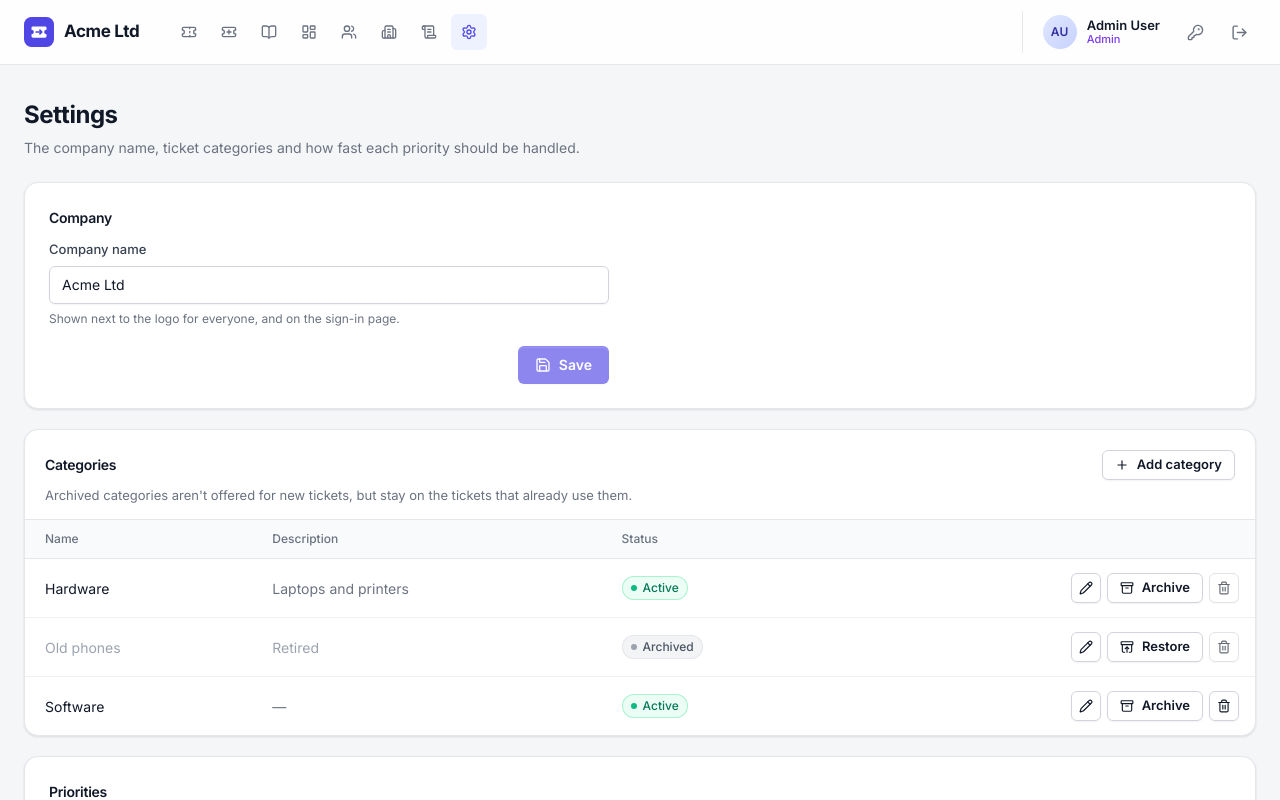
Test: Settings: categories › Add: name and description, sent cleaned up, and the new category appears sorted
Expected: the heading "Settings" is shown, [24, 100, 118, 129]
Expected: the element "Categories" is shown, [24, 428, 1256, 736]
Click the button "Add category" at (1168, 464), box [1102, 450, 1235, 480]
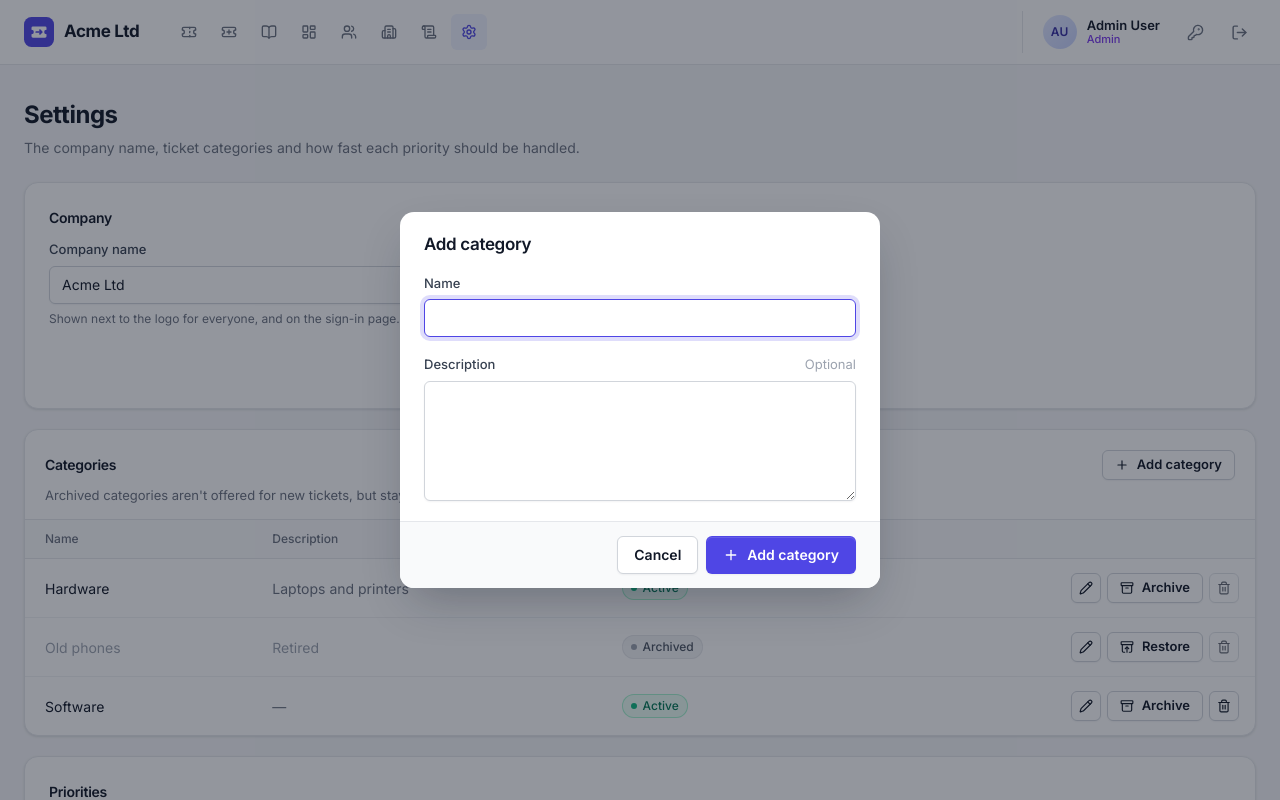
Type "  Access   cards " into the field labelled "Name" at (640, 318), box [424, 299, 856, 337]
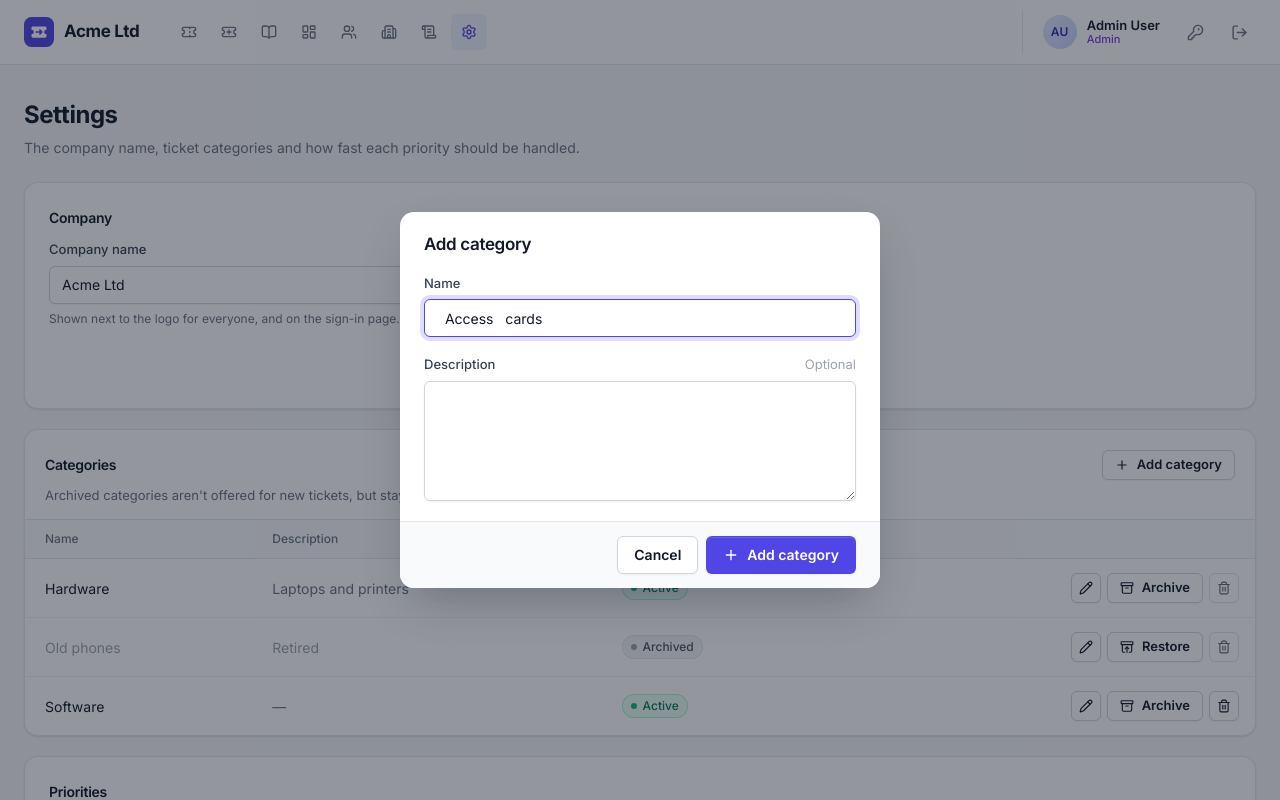
Type "Badges and door access" into the text box labelled "Description Optional" at (640, 441), box [424, 381, 856, 501]
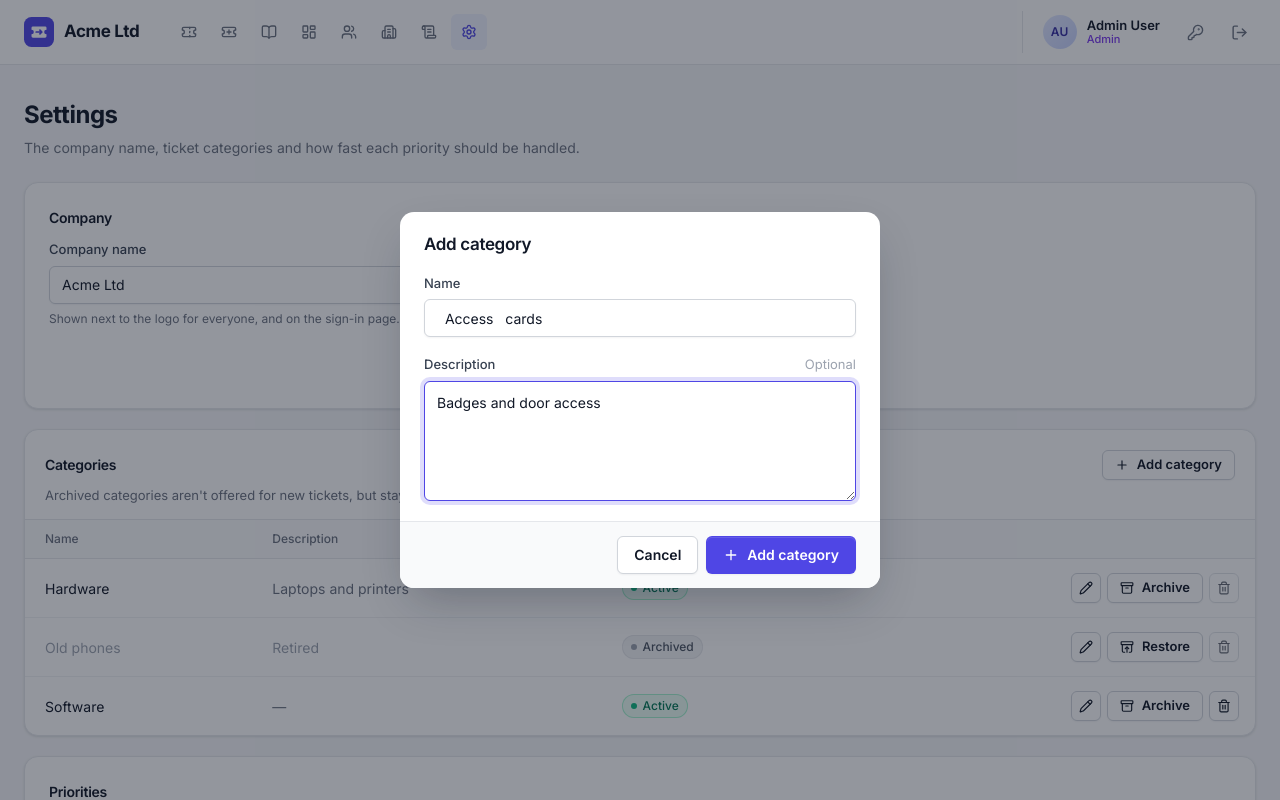
Click the button "Add category" at (781, 555), box [706, 536, 856, 574]
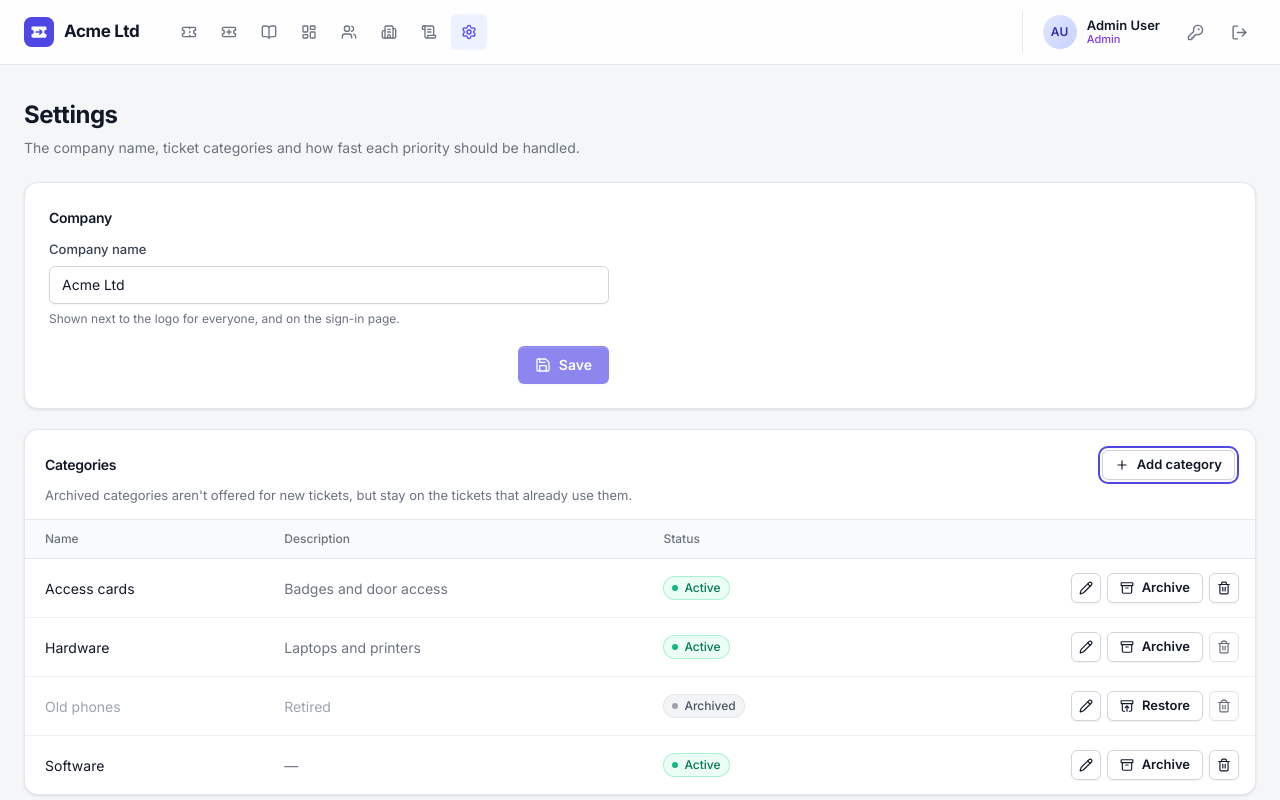
Expected: the dialog is gone
